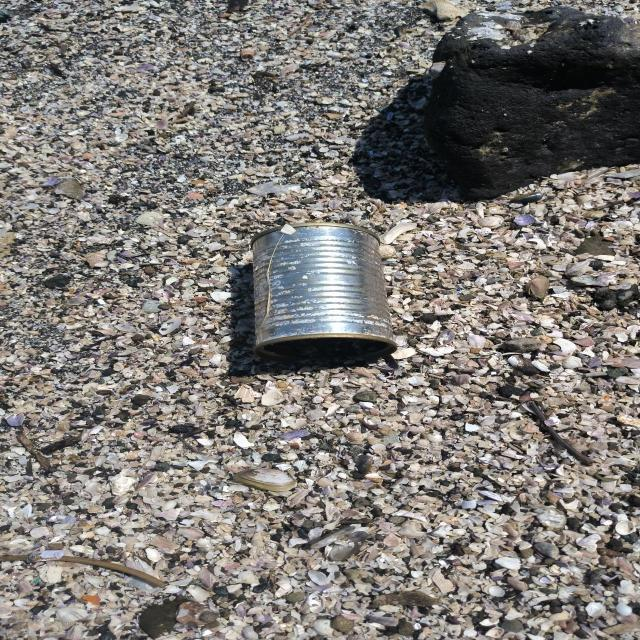metal_waste: (255, 226, 401, 356)
